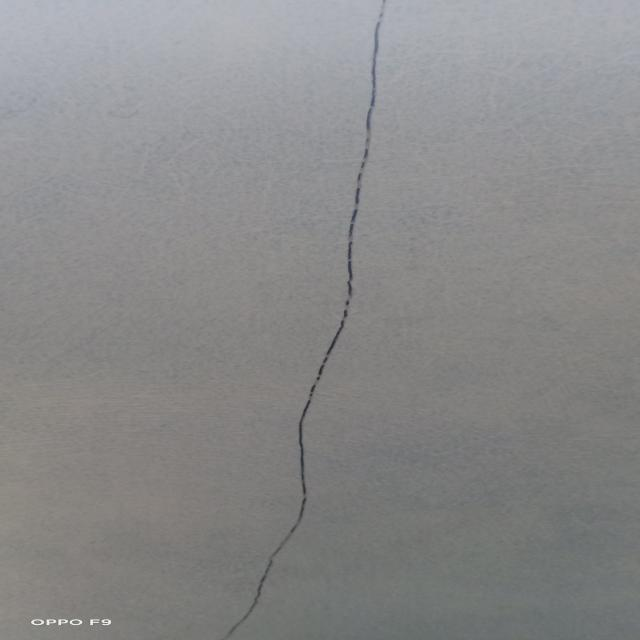Crack: (217, 14, 416, 638), (311, 126, 405, 250), (223, 518, 317, 640), (309, 2, 412, 112), (281, 389, 345, 512), (313, 264, 378, 381)
